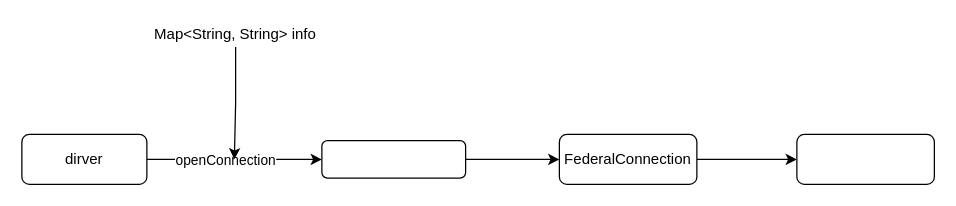
Image size: 956x206. Some labels were removed from this diagram. The centre of each missing label's shape, as x and y in pixels:
"ConnectionContext" goes at point 393,158.
"构建 runner" goes at point 865,158.
